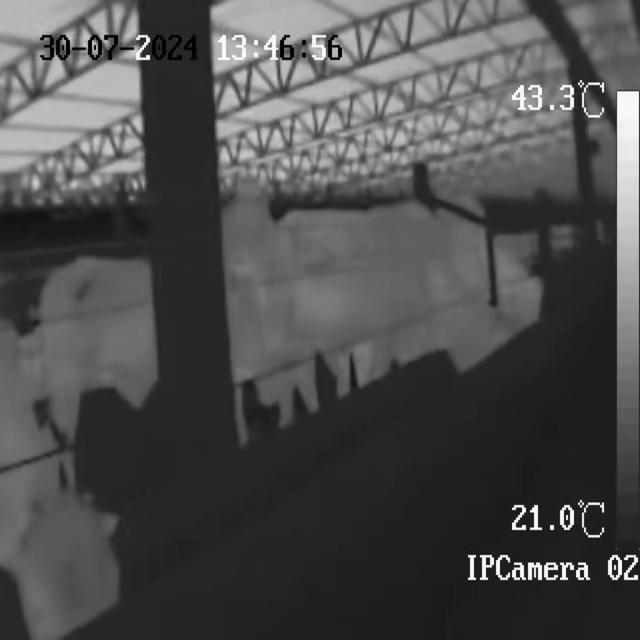eye: (256, 274, 269, 308)
head: (248, 226, 304, 367)
